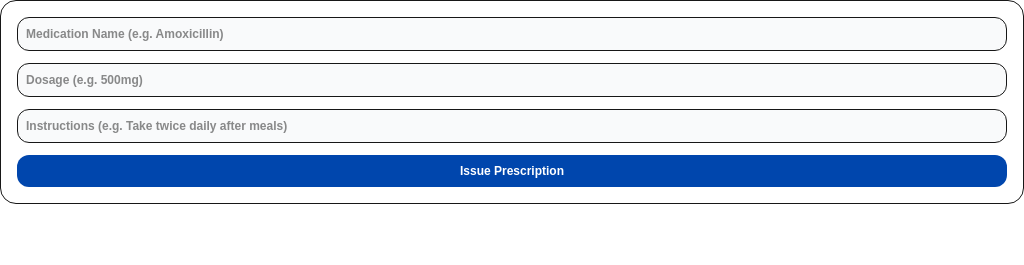
Scenario: Frontend Component State Tests › PrescriptionForm Component › prevents submission and displays validation error when empty
The image size is (1024, 265).
Click the button with test id "submit-btn": (512, 171) [17,155,1007,187]
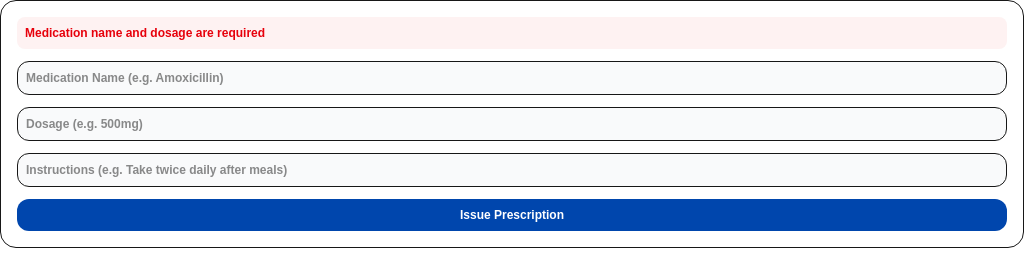
expect the text with test id "error-message" reads "Medication name and dosage are required": met, box [25,26,265,40]
